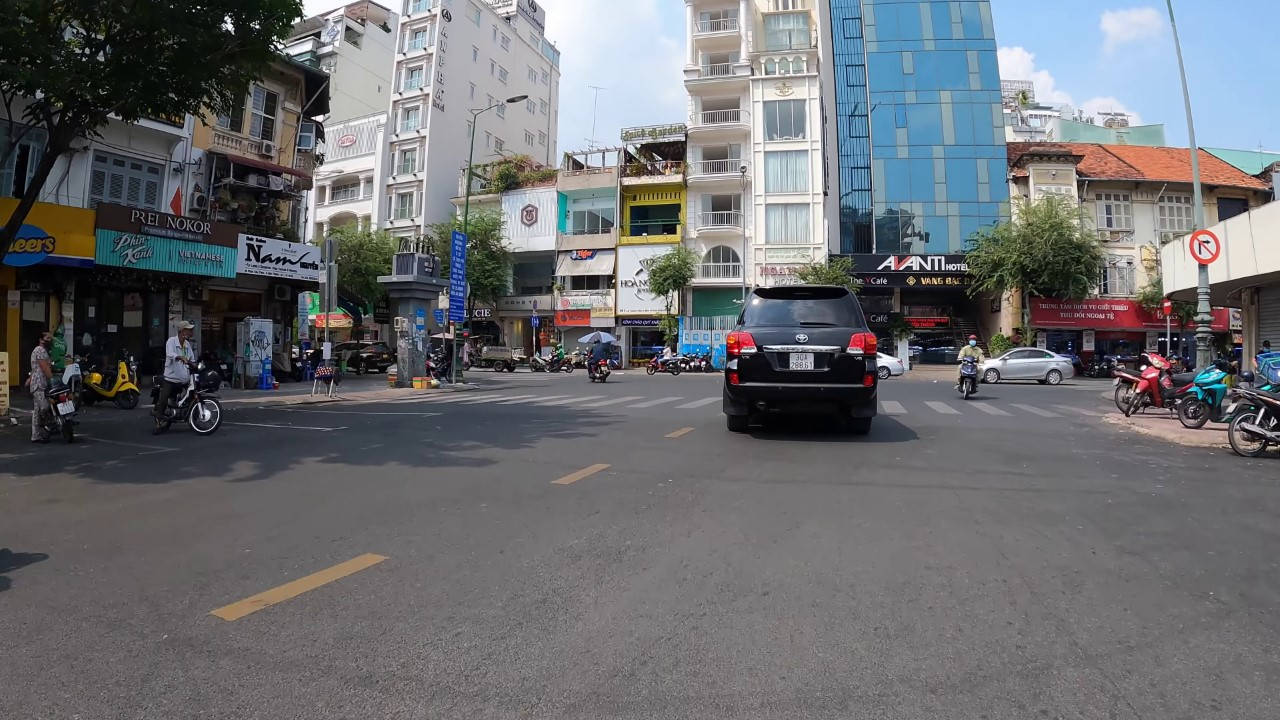cam_re_phai: (1188, 228, 1221, 266)
